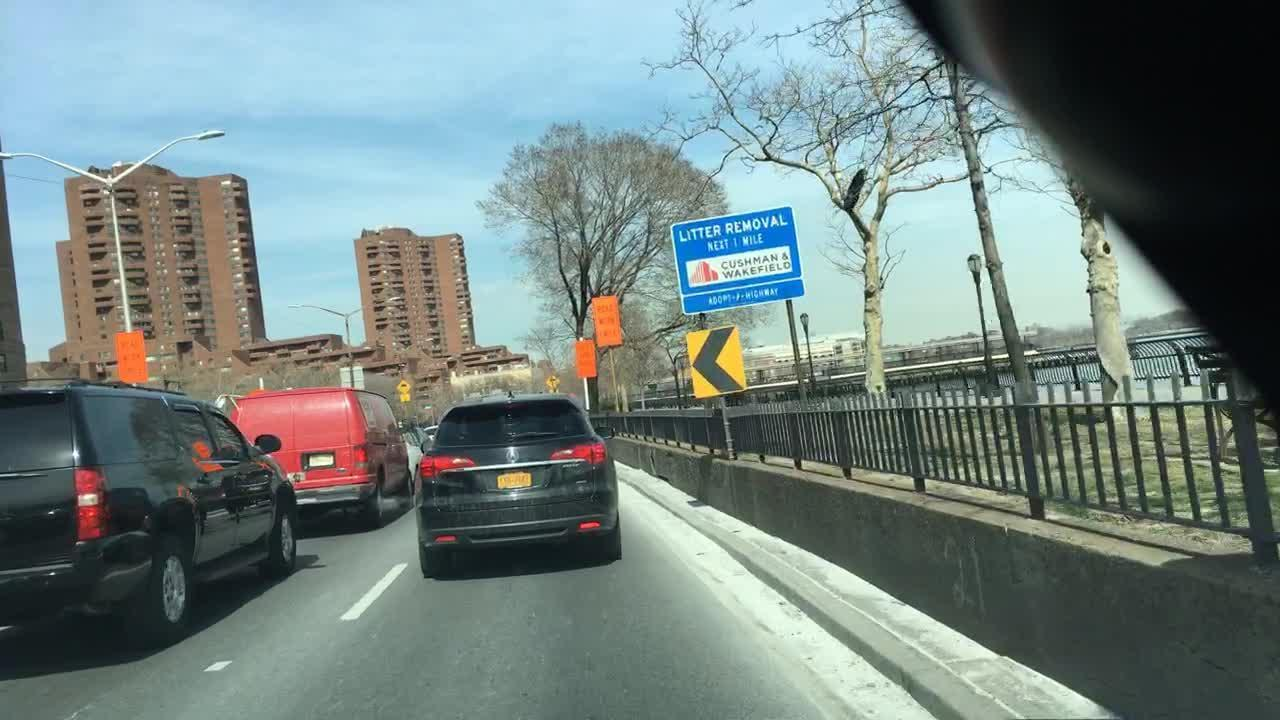acura: (502, 446, 525, 468)
